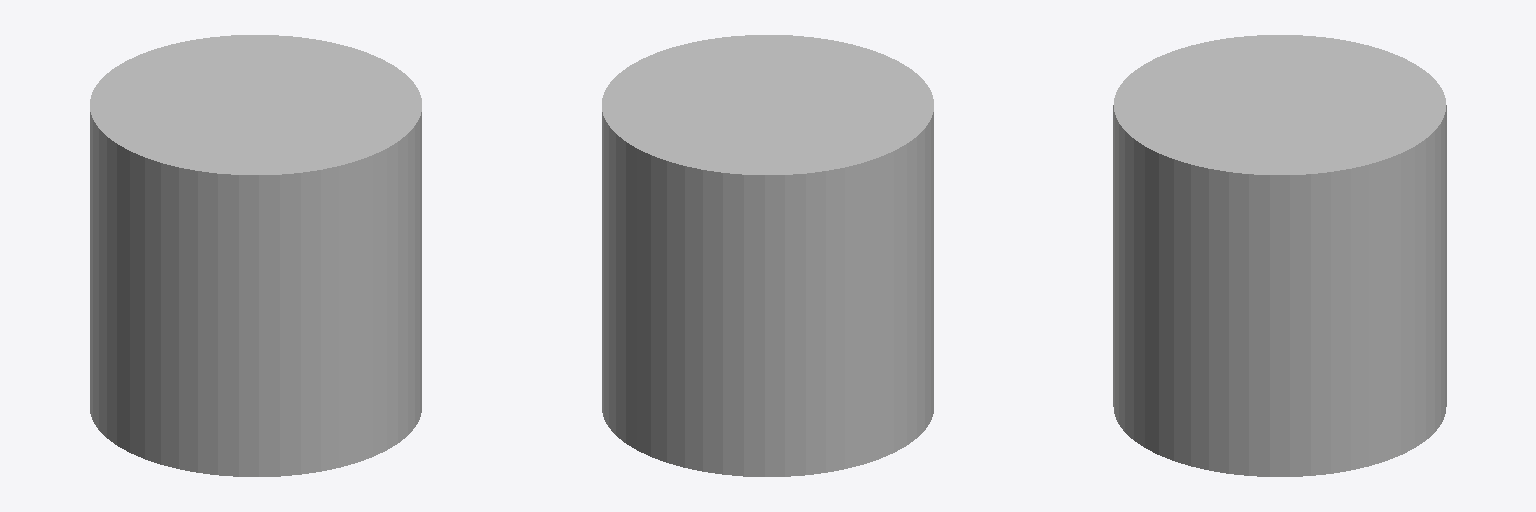
File: bumpers.obj
3 views of the same model, side by side, from view 1: azimuth 30°, elevation 25°; view 2: azimuth 150°, elevation 25°; view 3: azimuth 270°, elevation 25° (orthographic).
Parts seen in each view (by area): view 1: Cylinder; view 2: Cylinder; view 3: Cylinder.
Boxes of the visible parts, x1,y1,x2,y2 form: Cylinder: [90, 35, 421, 476]; Cylinder: [602, 35, 933, 476]; Cylinder: [1113, 35, 1446, 476].
Size of the model in its own units: 2.99 by 3 by 3.